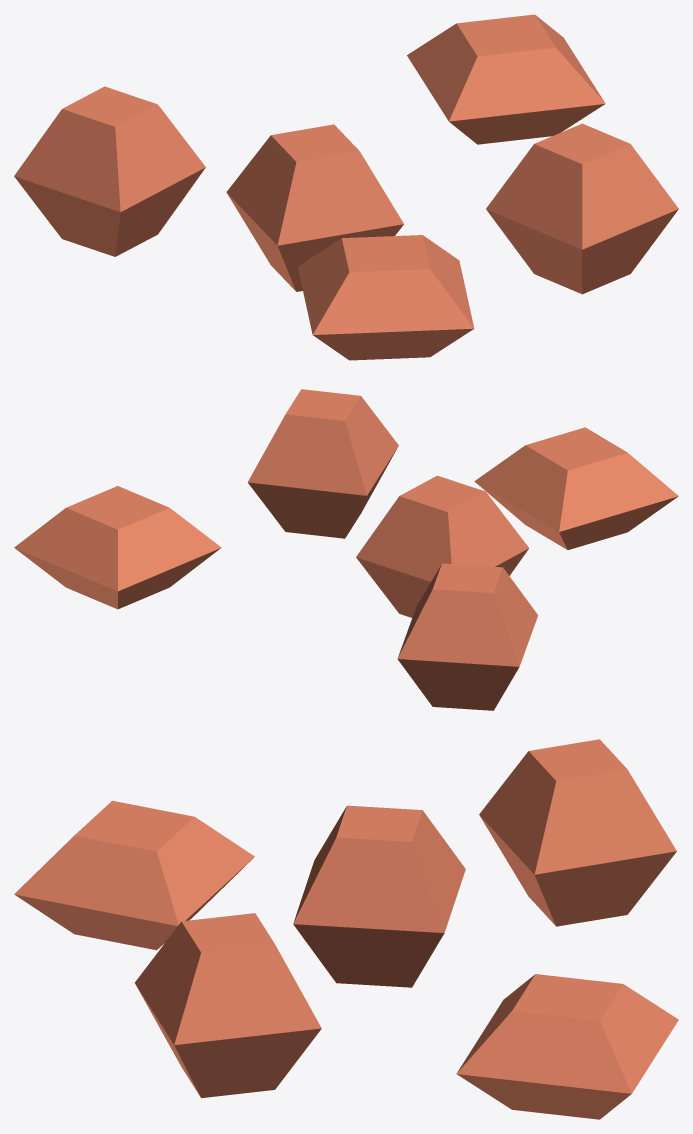
The model's file is dust-particle.obj.
3 renders of one model, top to bottom at view 1: azimuth 30°, elevation 25°; view 2: azimuth 150°, elevation 25°; view 3: azimuth 270°, elevation 25°, orthographic. The views are drawn at different scales.
Parts seen in each view (by area): view 1: mergedBlocks; view 2: mergedBlocks; view 3: mergedBlocks.
Part boxes in pixels (x1,y1,x2,y2): mergedBlocks: (14,14,678,360); mergedBlocks: (14,389,678,710); mergedBlocks: (14,739,678,1119).
Bounding box in the file's own units: 0.1874 × 0.042 × 0.174.
